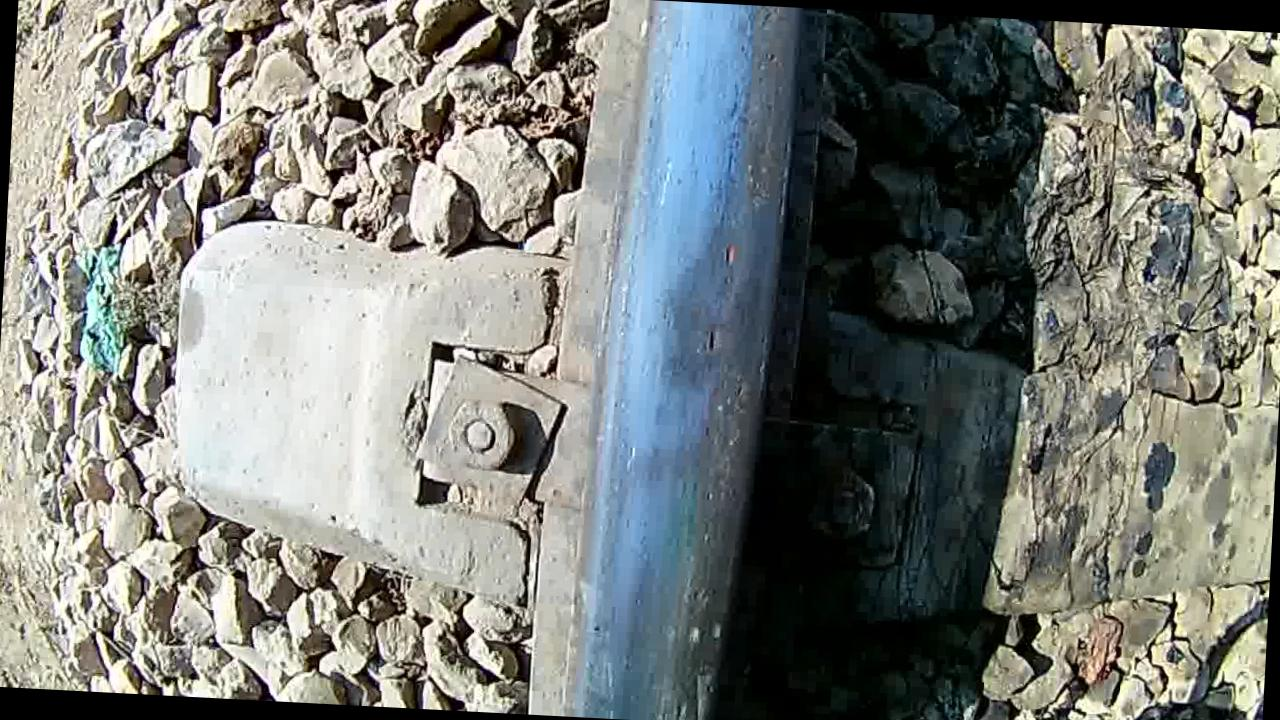crack: (574, 0, 803, 720)
